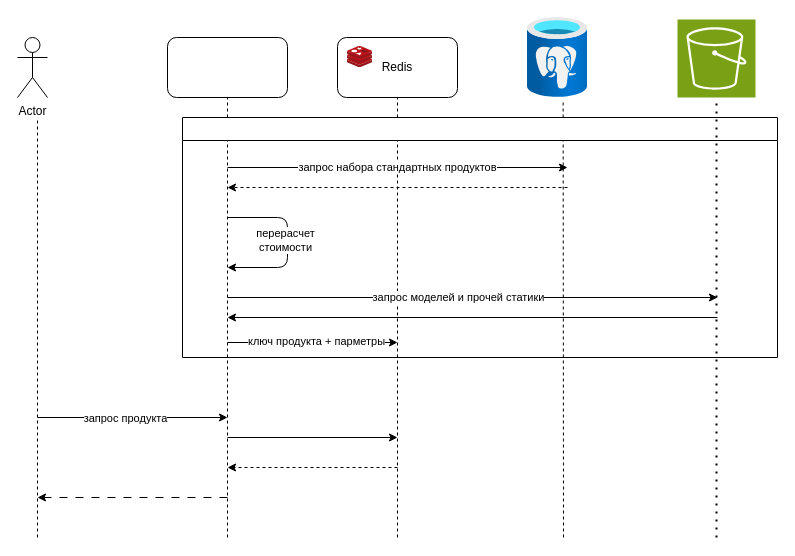
Image size: 795x556. Some labels were removed from this diagram. Each missing label, with the centre of its shape:
"MES" goes at pixel 227 67.
"Фоновое обновление" goes at pixel 480 237.
